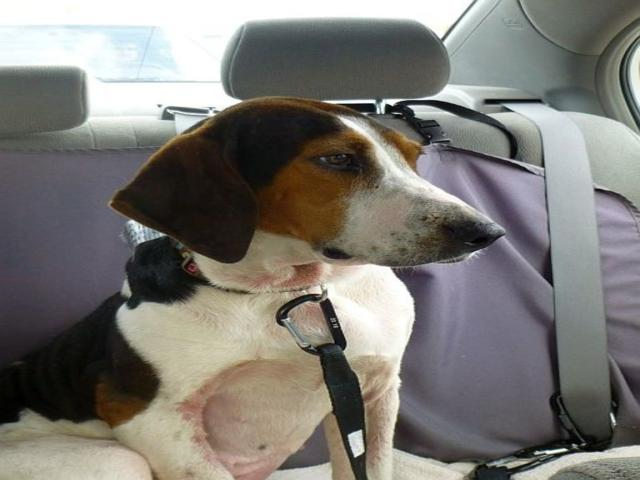Dog: (0, 97, 506, 479)
